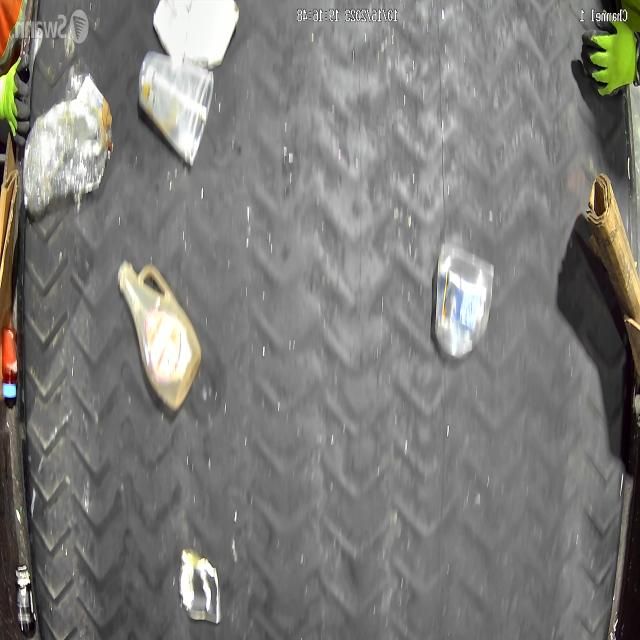can: (177, 547, 223, 624)
non_white_jug: (117, 253, 203, 415)
